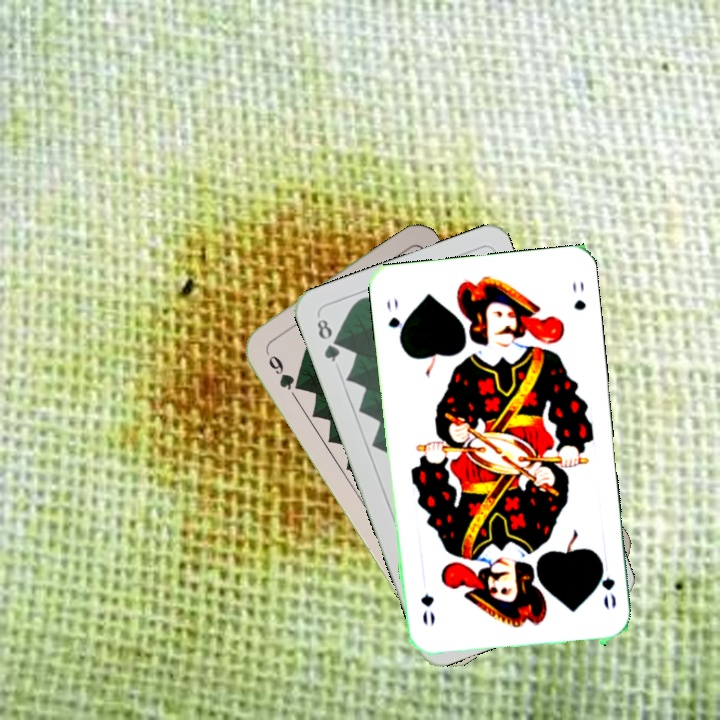G8: (312, 314, 343, 365)
G9: (261, 345, 305, 394)
GO: (593, 559, 619, 612), (382, 294, 407, 348)
